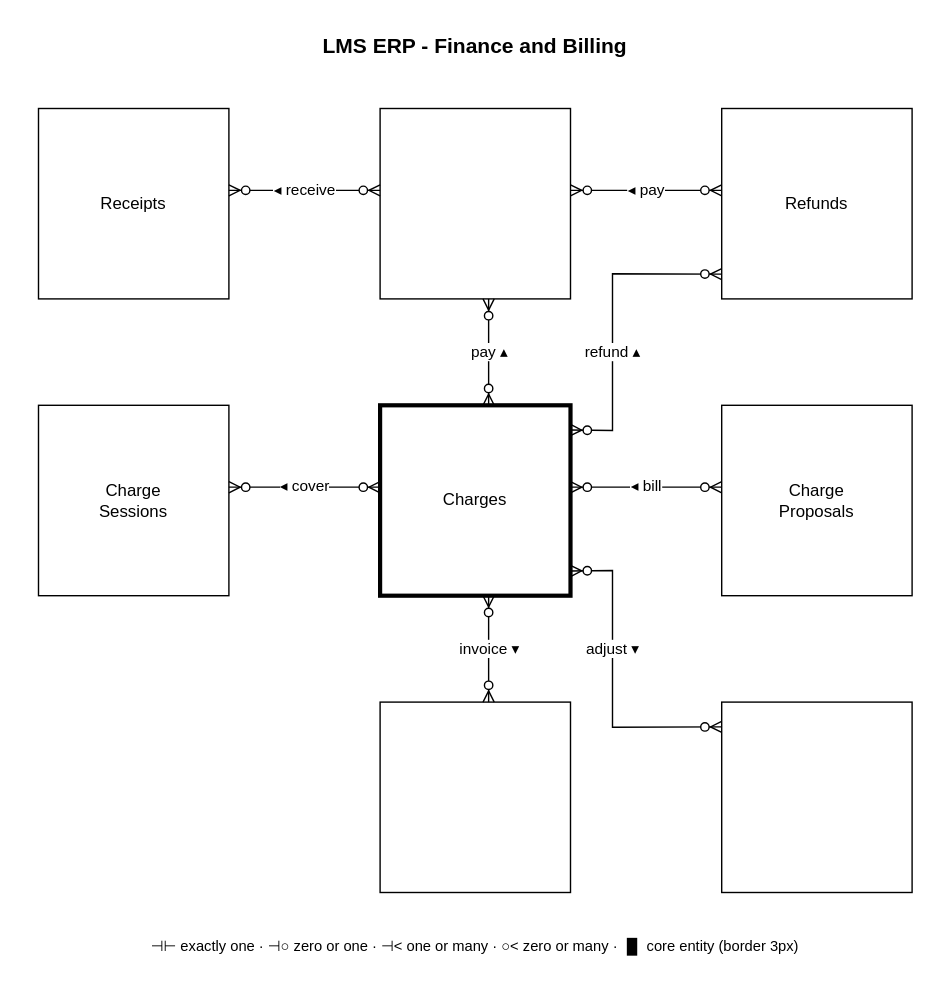
Image size: 949x983. Some labels were removed from this diagram. Here are the shapes that lost their labels. From the top down, the box of each, then its label:
(379, 107, 570, 299): Payments
(379, 701, 570, 892): Tax Invoices
(720, 701, 912, 892): Charge Adjustments
